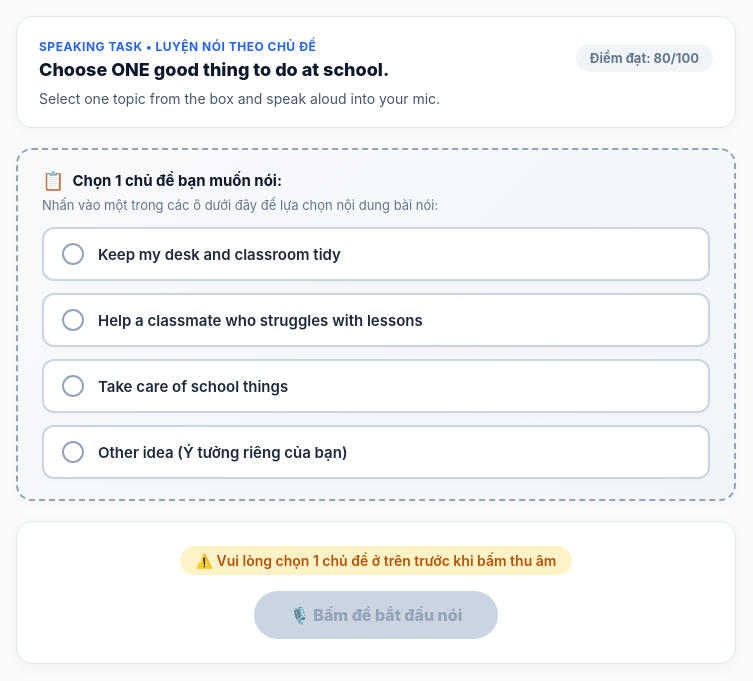
Test: TopicSpeakingRenderer (Form 7) › enables mic button when a topic is selected
Click the element with id "topic-option-opt_1" at x=376, y=254, box [42,227,710,281]
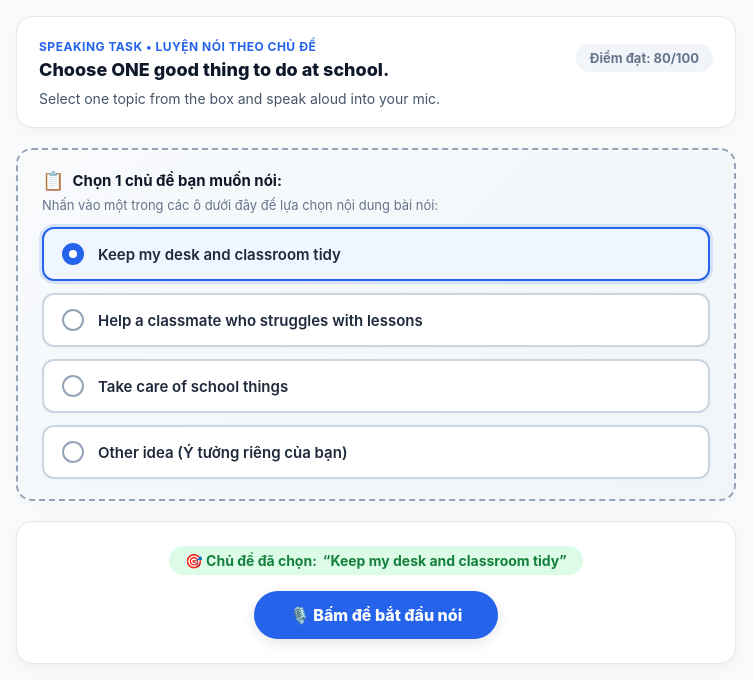
Check: the button with id "topicSpeakingMicBtn" is enabled, box [254,591,498,639]
Check: the text "🎯 Chủ đề đã chọn:" is shown, box [185,552,317,569]
